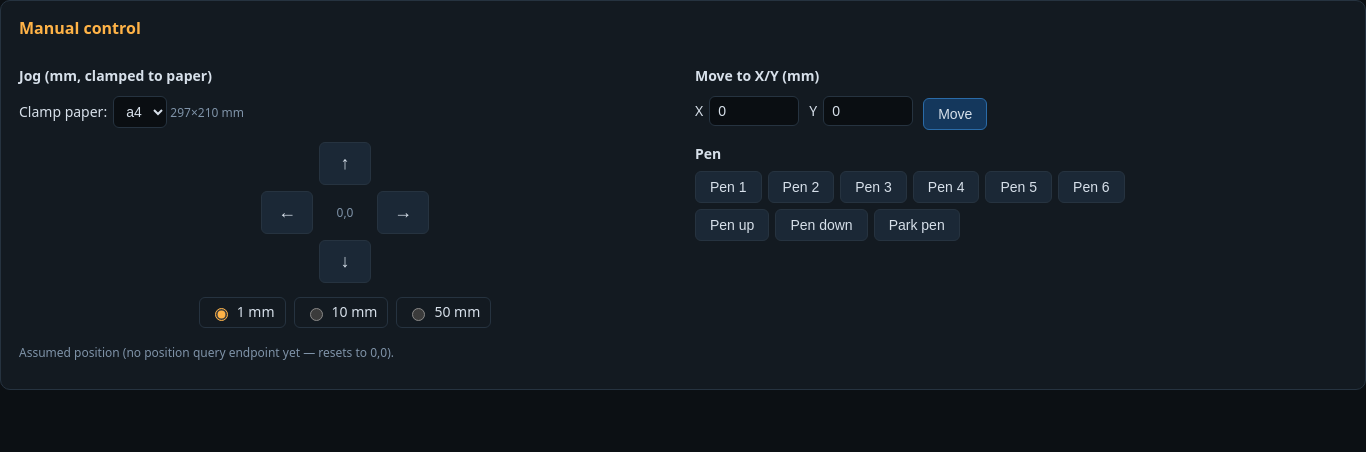
Test: ManualPage › connected: move-to clamps to A4 and warns
This screenshot has width=1366, height=452.
Check: the heading "Move to X/Y (mm)" is shown, box [695,66,819,85]
Step 1. Replace the text in the number field named "target x mm" with "999" → {"x": 754, "y": 112}, box [709,96,799,126]
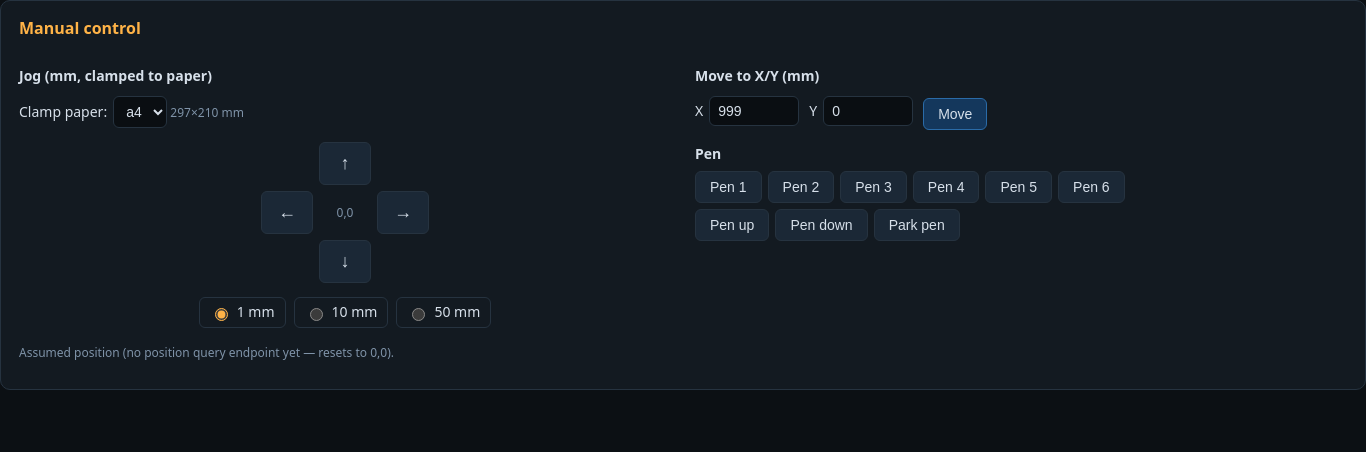
Step 2. Replace the text in the number field named "target y mm" with "50" → {"x": 868, "y": 112}, box [823,96,913,126]
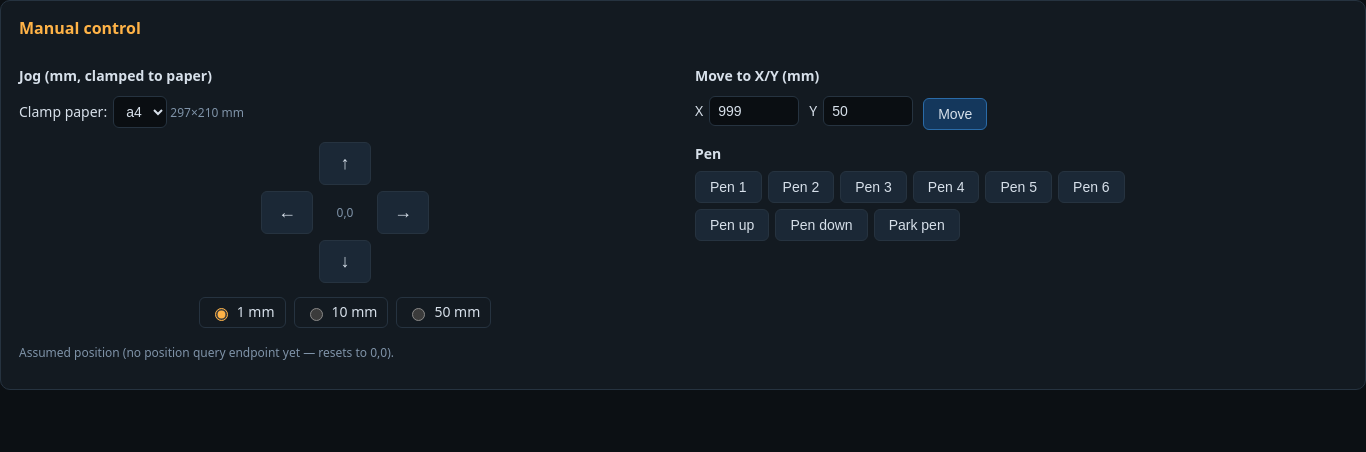
Step 3. Click the button "Move" → {"x": 955, "y": 114}, box [923,98,987,130]
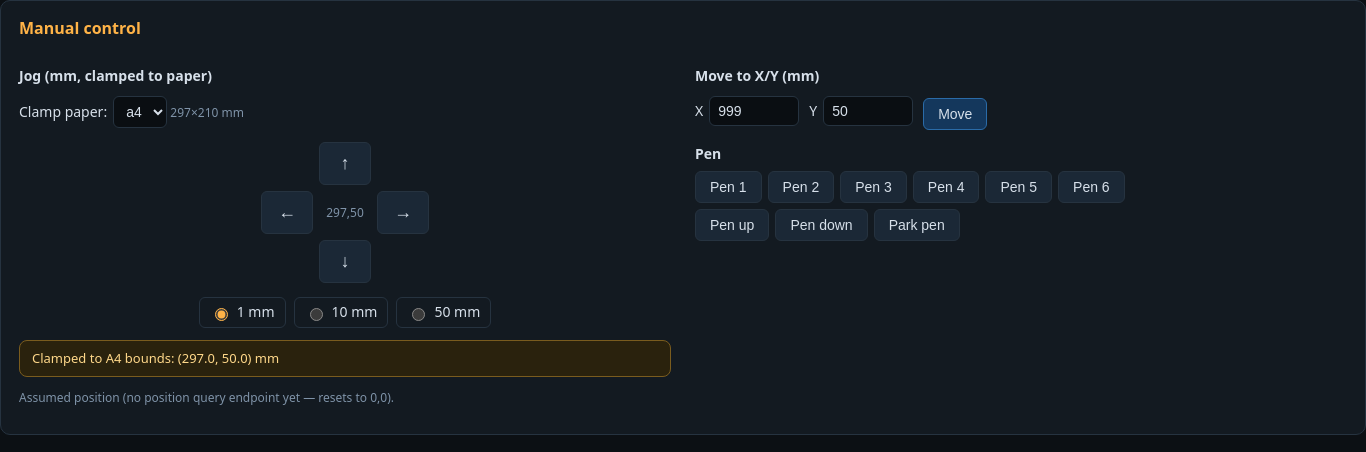
Check: the message with test id "clamp-warn" shows "Clamped to A4", box [32,349,279,367]
